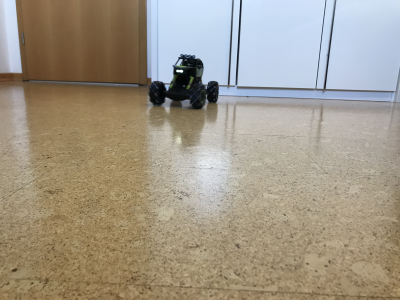remote control car: (142, 50, 221, 111)
